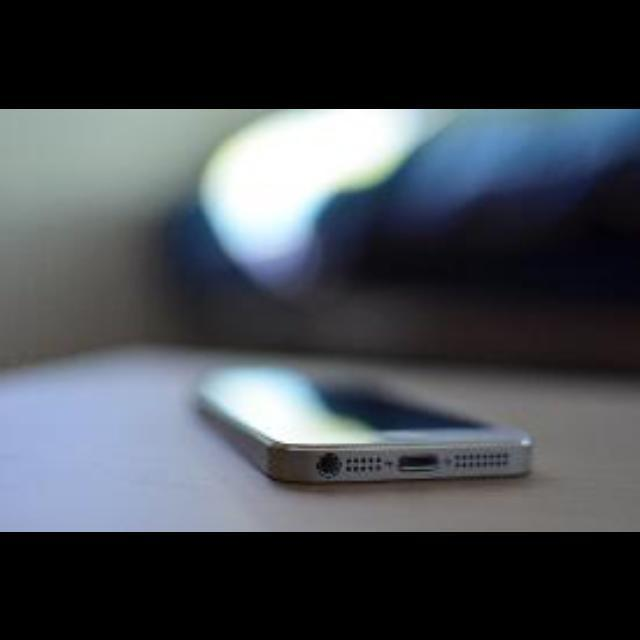phone: (167, 353, 565, 500)
